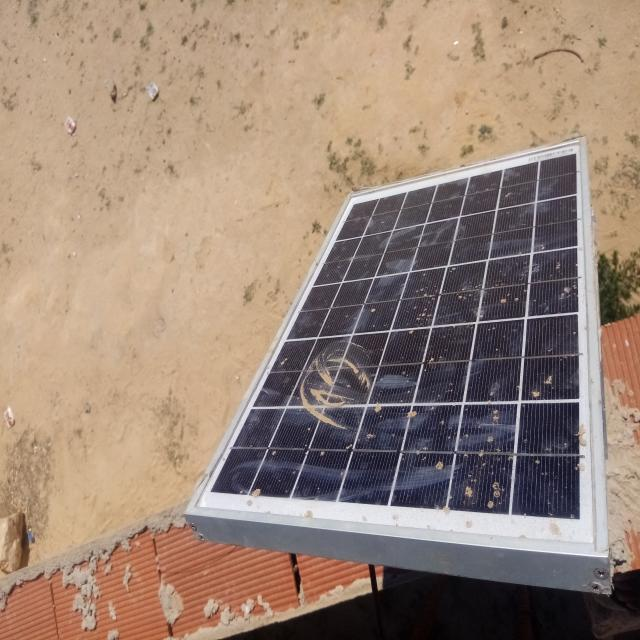faulty: (189, 146, 606, 554)
